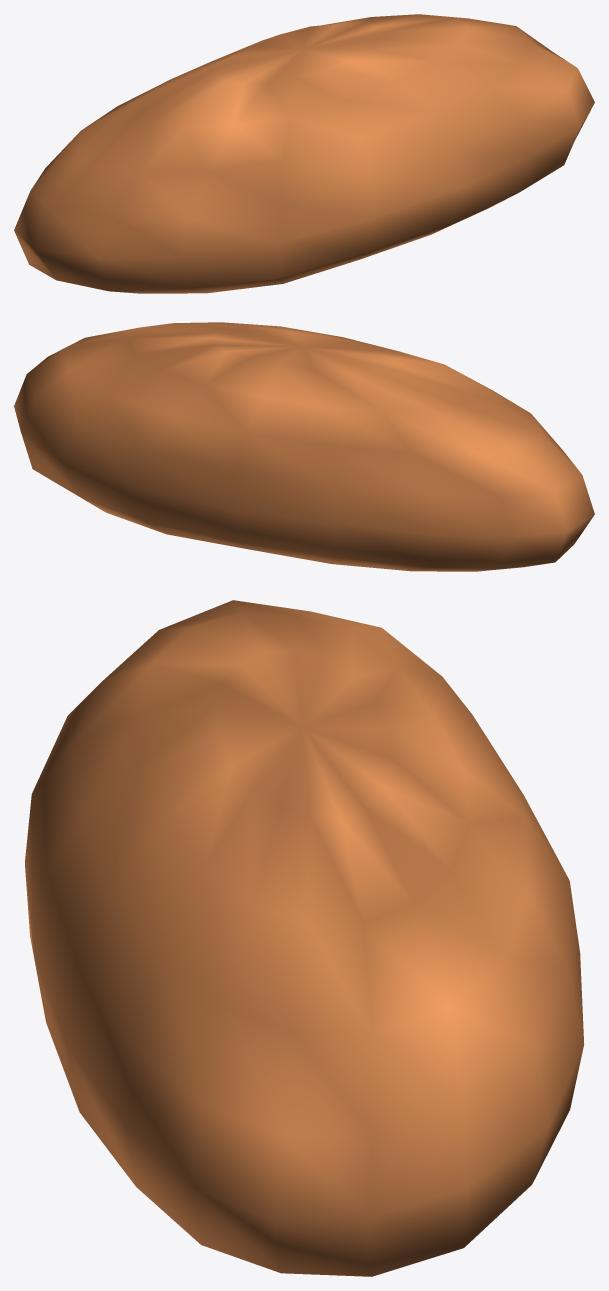
File: driftback_bream_roe.glb
3 renders of one model, top to bottom at view 1: azimuth 30°, elevation 25°; view 2: azimuth 150°, elevation 25°; view 3: azimuth 270°, elevation 25°, orthographic. The views are drawn at different scales.
Parts seen in each view (by area): view 1: driftback_bream_roe; view 2: driftback_bream_roe; view 3: driftback_bream_roe.
Part boxes in pixels (left/top/right/bottom): driftback_bream_roe: left=14, top=14, right=594, bottom=293; driftback_bream_roe: left=14, top=322, right=594, bottom=571; driftback_bream_roe: left=25, top=600, right=584, bottom=1276.
Size of the model in its own units: 0.05 by 0.015 by 0.022.
